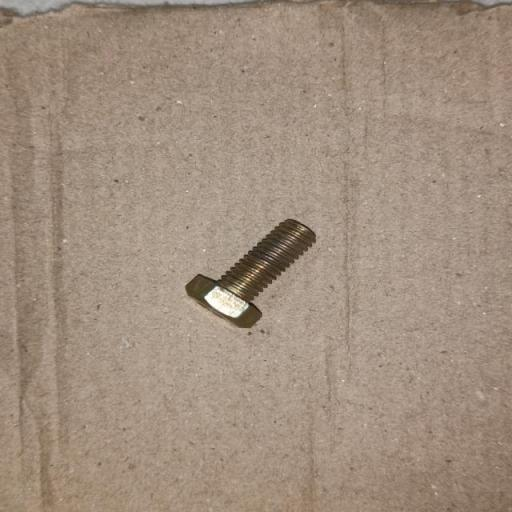Bolt: (184, 218, 317, 330)
